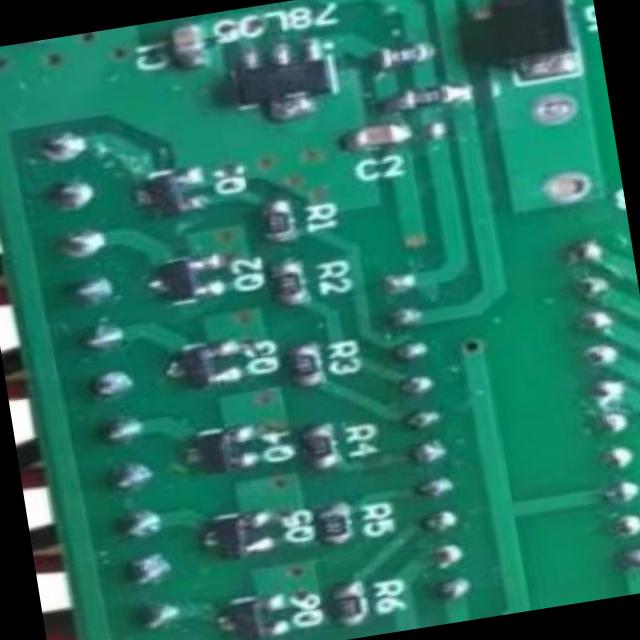IC: (225, 40, 334, 120)
capacitor: (155, 15, 210, 74), (349, 119, 402, 164)
diode: (476, 0, 578, 81)
resistor: (288, 421, 340, 472), (258, 201, 312, 243), (396, 84, 459, 120), (268, 264, 316, 310), (282, 340, 328, 387), (331, 576, 376, 624), (312, 500, 361, 541)
transistor: (139, 248, 213, 312), (203, 584, 279, 640), (196, 504, 268, 560), (130, 170, 199, 228), (190, 421, 260, 473), (175, 338, 233, 388)
